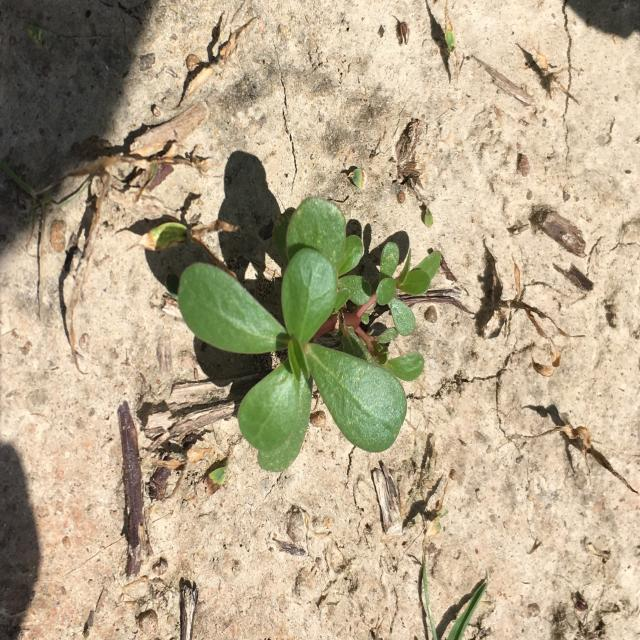Purslane: (178, 197, 441, 472)
